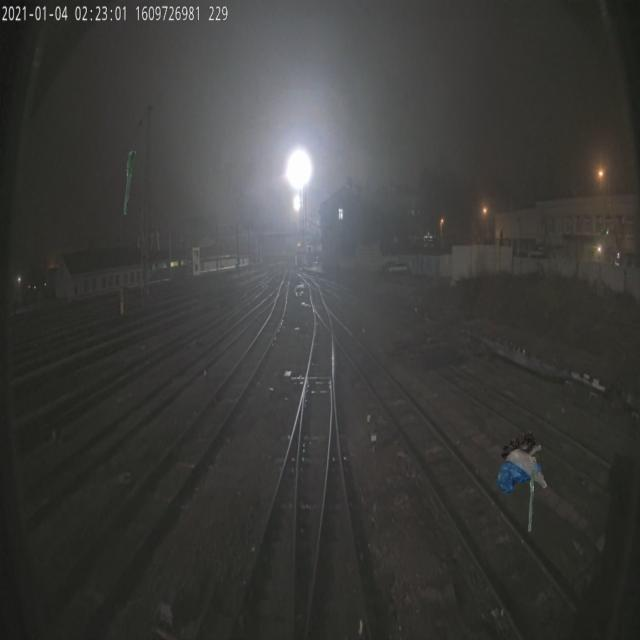floating object: (123, 150, 135, 214), (528, 468, 535, 532)
plastic bag: (497, 430, 547, 494)
